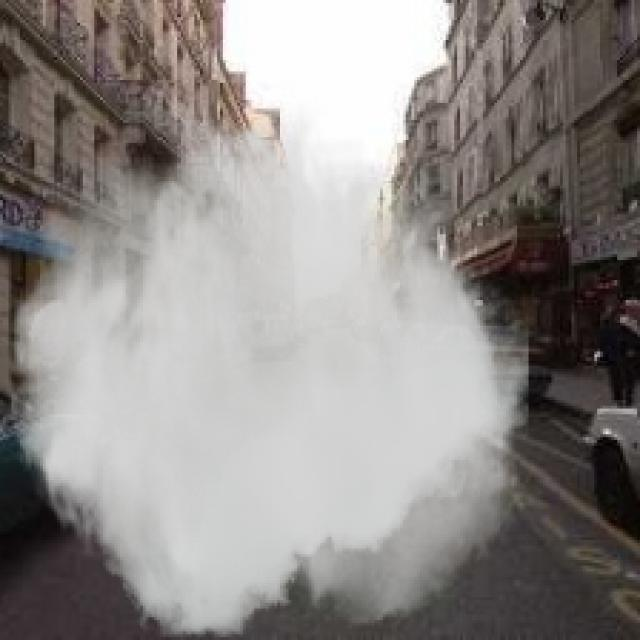Smoke: (2, 88, 528, 638)
